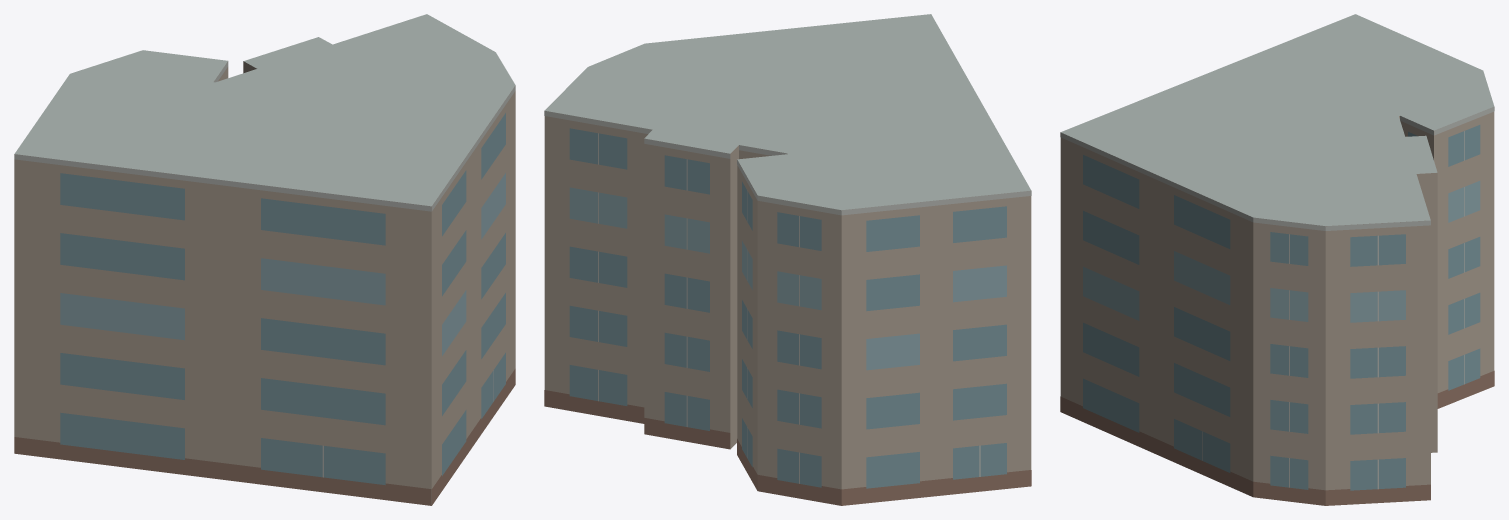
File: survey-upis-32986146.glb
3 views of the same model, side by side, from view 1: azimuth 30°, elevation 25°; view 2: azimuth 150°, elevation 25°; view 3: azimuth 270°, elevation 25° (orthographic). The views are drawn at different scales.
Visible parts, largest first — view 1: survey-upis-32986146.tmp; view 2: survey-upis-32986146.tmp; view 3: survey-upis-32986146.tmp.
Part boxes in pixels (left/top/right/bottom): survey-upis-32986146.tmp: left=14, top=14, right=515, bottom=505; survey-upis-32986146.tmp: left=544, top=14, right=1031, bottom=505; survey-upis-32986146.tmp: left=1060, top=14, right=1494, bottom=505.
Size of the model in its own units: 22.45 by 13.8 by 19.41.
